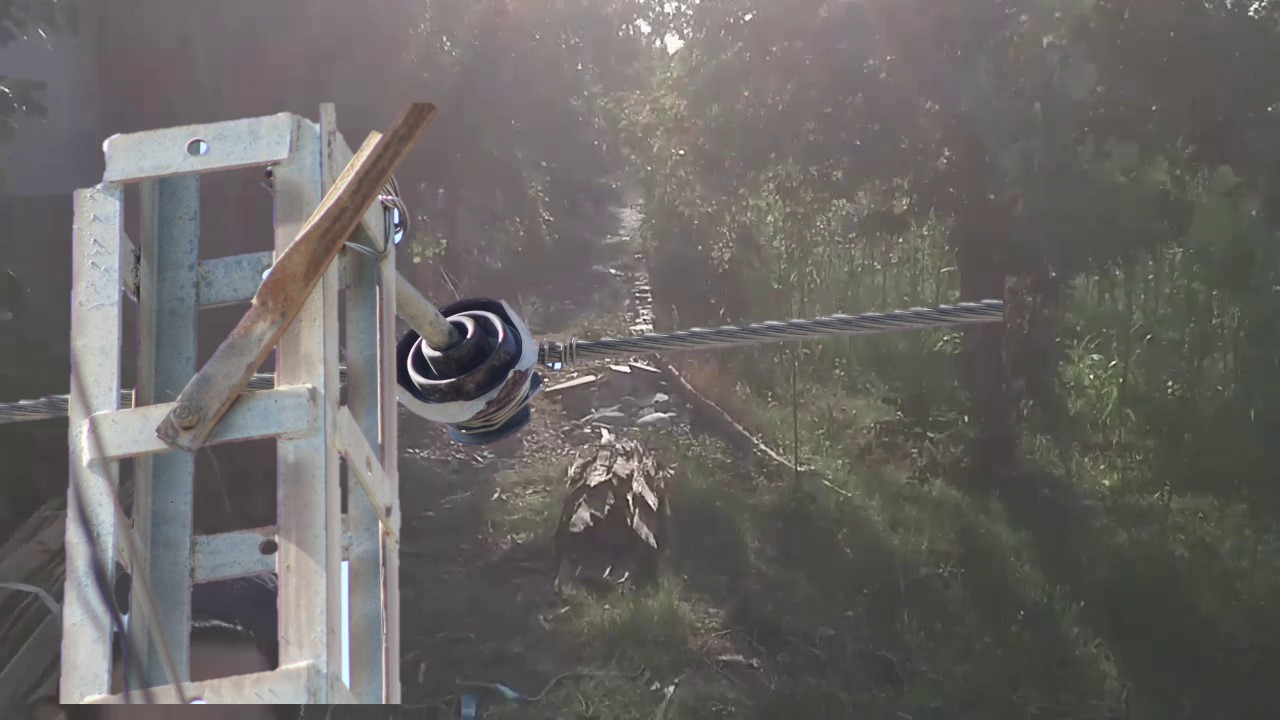defect_pin: (395, 293, 545, 453)
